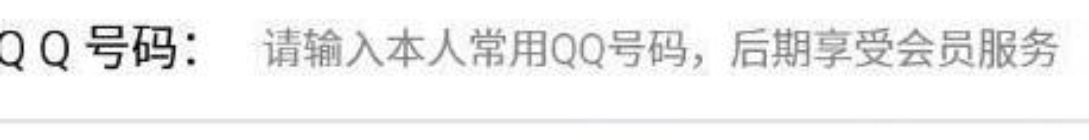EditText: (1, 1, 1088, 139)
